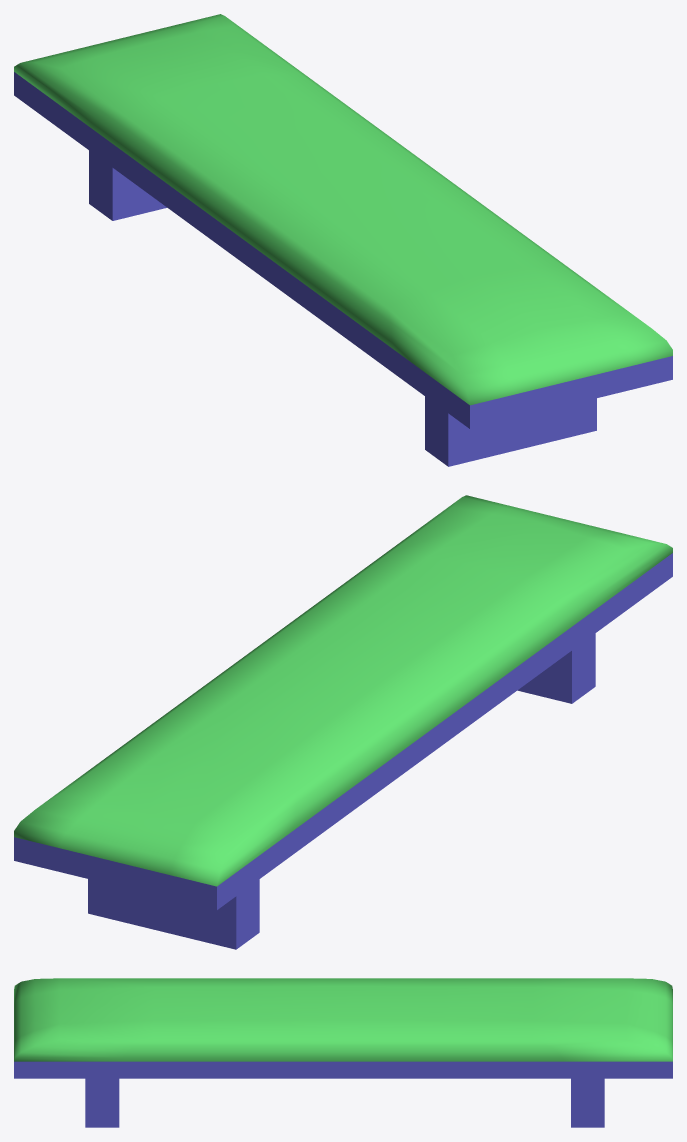
File: Bench_FBX.FBX
3 renders of one model, top to bottom at view 1: azimuth 30°, elevation 25°; view 2: azimuth 150°, elevation 25°; view 3: azimuth 270°, elevation 25°, orthographic. The views are drawn at different scales.
Visible parts, largest first — view 1: Bench_Seating; view 2: Bench_Seating; view 3: Bench_Seating.
Boxes of the visible parts, bbox=[...] form: Bench_Seating: bbox=[14, 14, 672, 466]; Bench_Seating: bbox=[14, 495, 672, 949]; Bench_Seating: bbox=[14, 978, 672, 1127].
Size of the model in its own units: 79.82 by 52.22 by 309.
